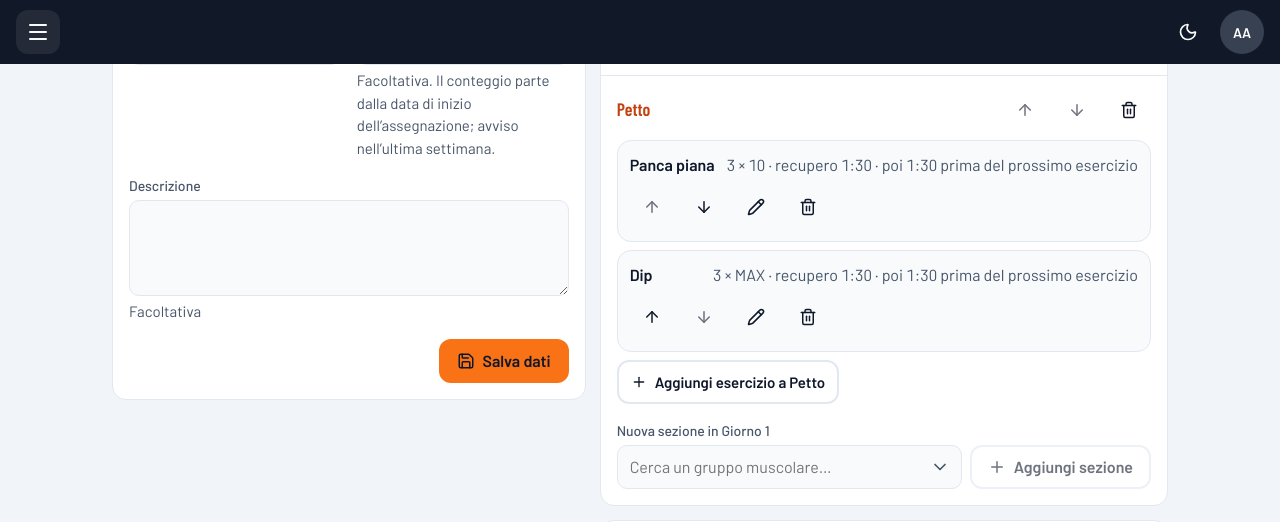
it: flash after saving a plan › stays in the editor and shows the error when saving fails
(page scrolled)
Click the button "Salva dati" at (504, 361), box [439, 339, 569, 383]
(page scrolled)
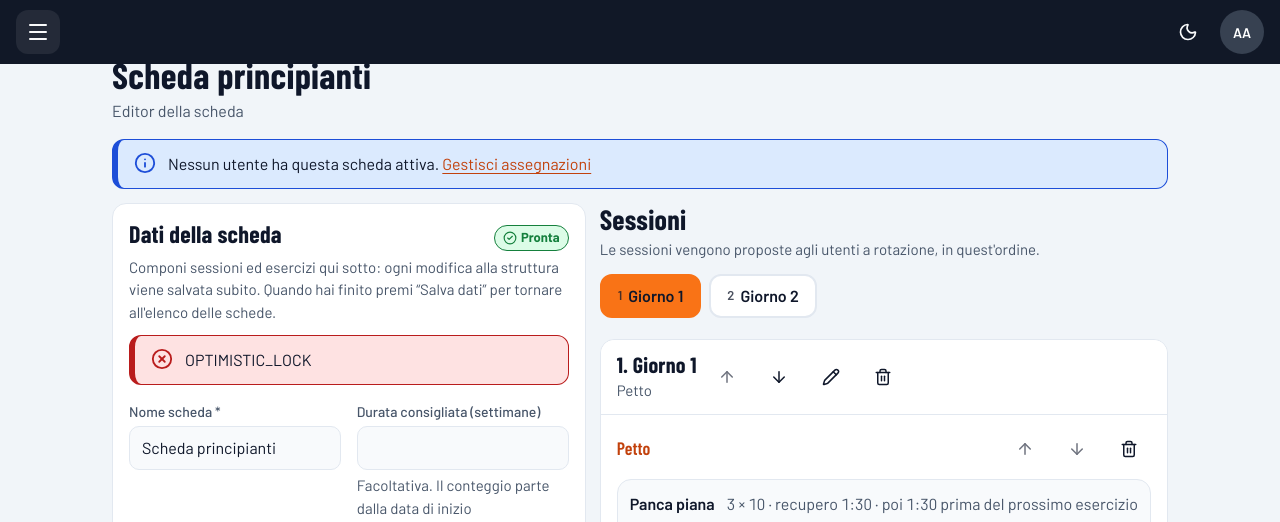
Expected: the message "OPTIMISTIC_LOCK" is shown, [129, 336, 569, 386]
